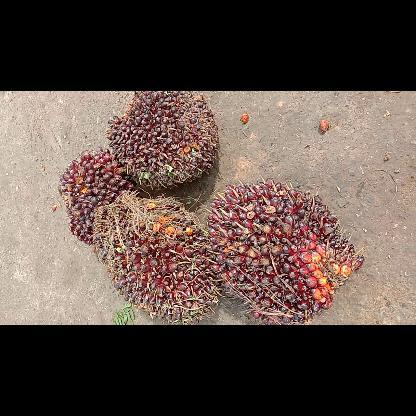Kurang masak: (202, 176, 364, 324), (106, 191, 222, 324), (106, 90, 218, 188), (58, 148, 136, 244)
